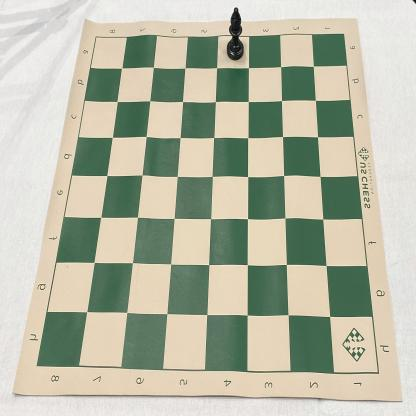black-bishop: (226, 7, 244, 61)
